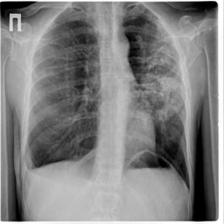tuberculosis: (24, 3, 194, 192)
